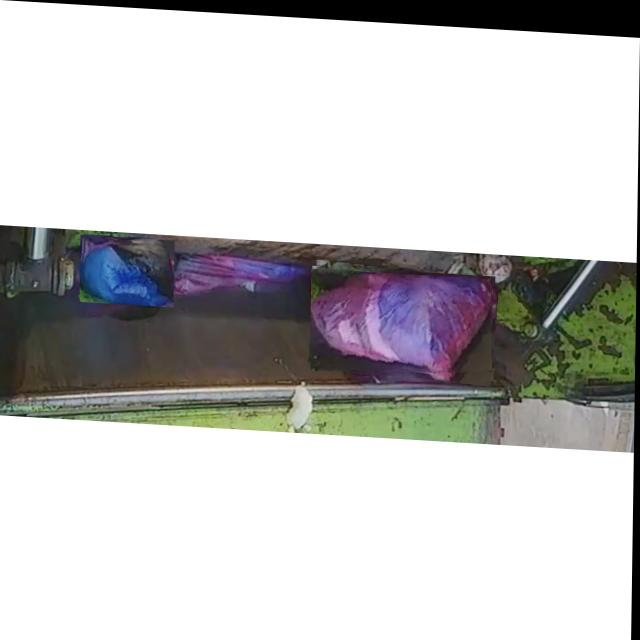other_trashbag: (312, 268, 495, 368), (82, 239, 175, 304)
